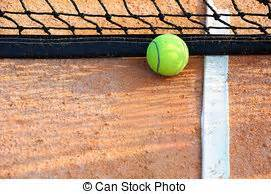tennis_ball: (146, 34, 189, 75)
